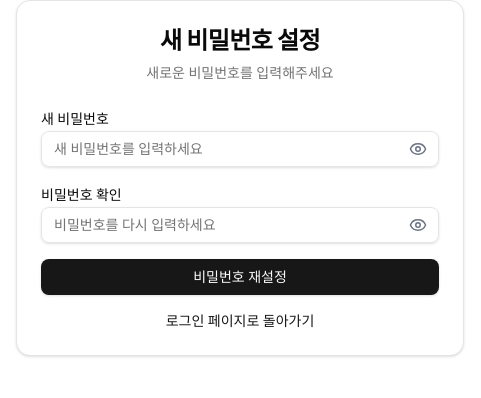
Test: ResetPasswordForm › shows loading state during submission
Step 1. Type "NewPassword123" into the password field labelled "새 비밀번호" → {"x": 240, "y": 149}, box [41,131,439,167]
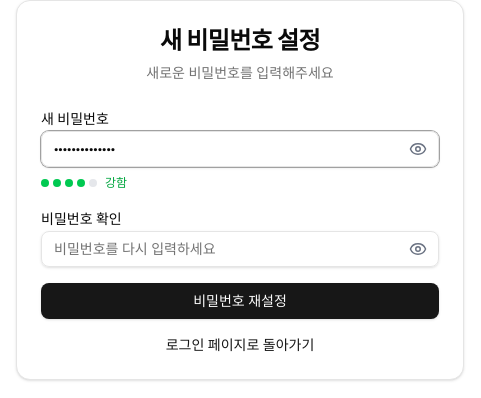
Step 2. Type "NewPassword123" into the password field labelled "비밀번호 확인" → {"x": 240, "y": 249}, box [41,231,439,267]
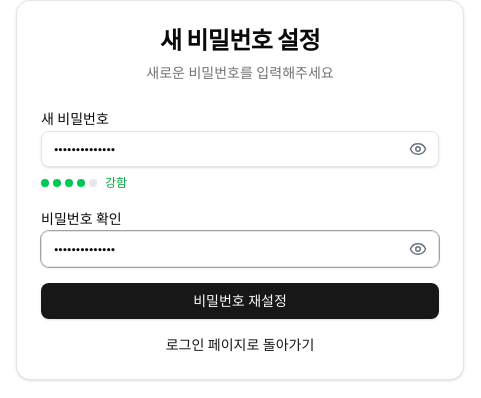
Step 3. Click the button "비밀번호 재설정" → {"x": 240, "y": 301}, box [41,283,439,319]
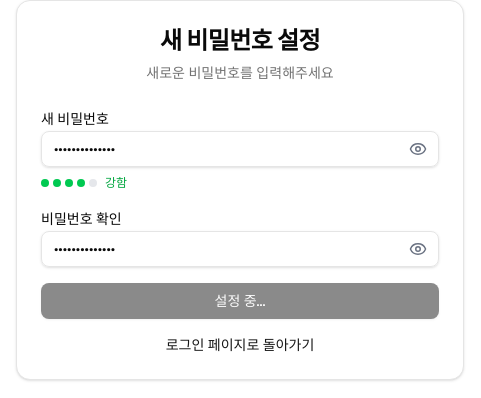
Now the button "설정 중..." is disabled, box [41,283,439,319]
